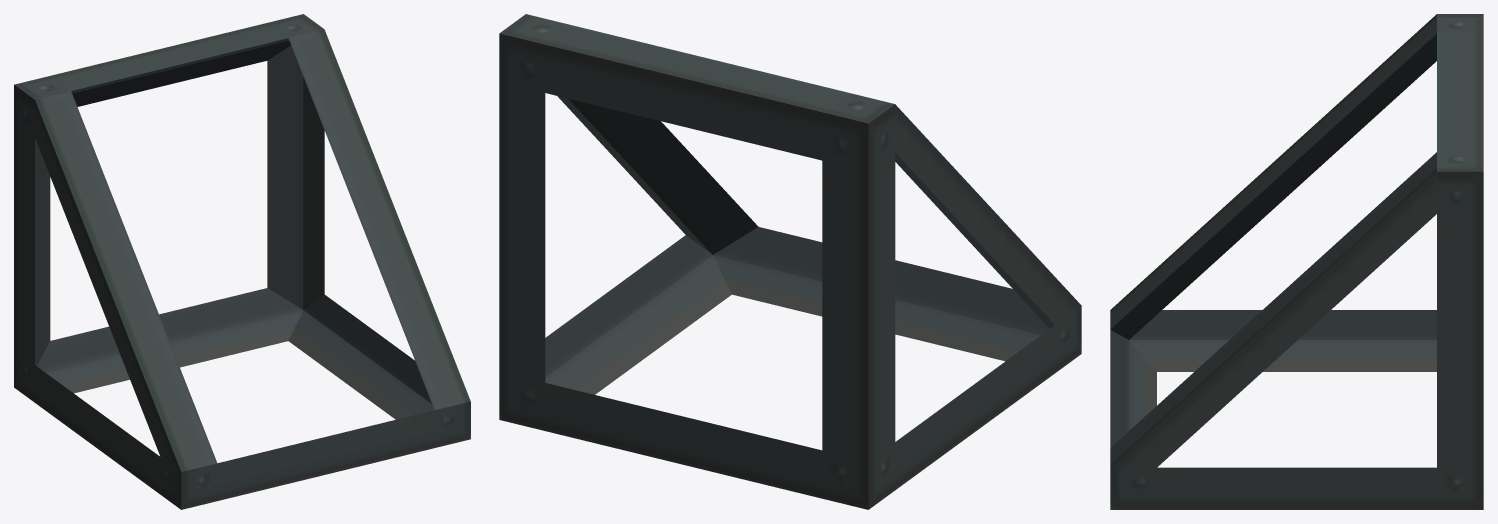
Rendered from obliqueFrame.obj.
The picture shows the model from 3 angles, left to right: view 1: azimuth 30°, elevation 25°; view 2: azimuth 150°, elevation 25°; view 3: azimuth 270°, elevation 25°; orthographic projection. The views are drawn at different scales.
Visible parts, largest first — view 1: obliqueFrame; view 2: obliqueFrame; view 3: obliqueFrame.
Boxes of the visible parts, x1,y1,x2,y2 form: obliqueFrame: (14, 14, 470, 509); obliqueFrame: (499, 14, 1081, 509); obliqueFrame: (1110, 14, 1483, 509).
Bounding box in the file's own units: 1 × 1 × 1.
1 material, 1 textured.
